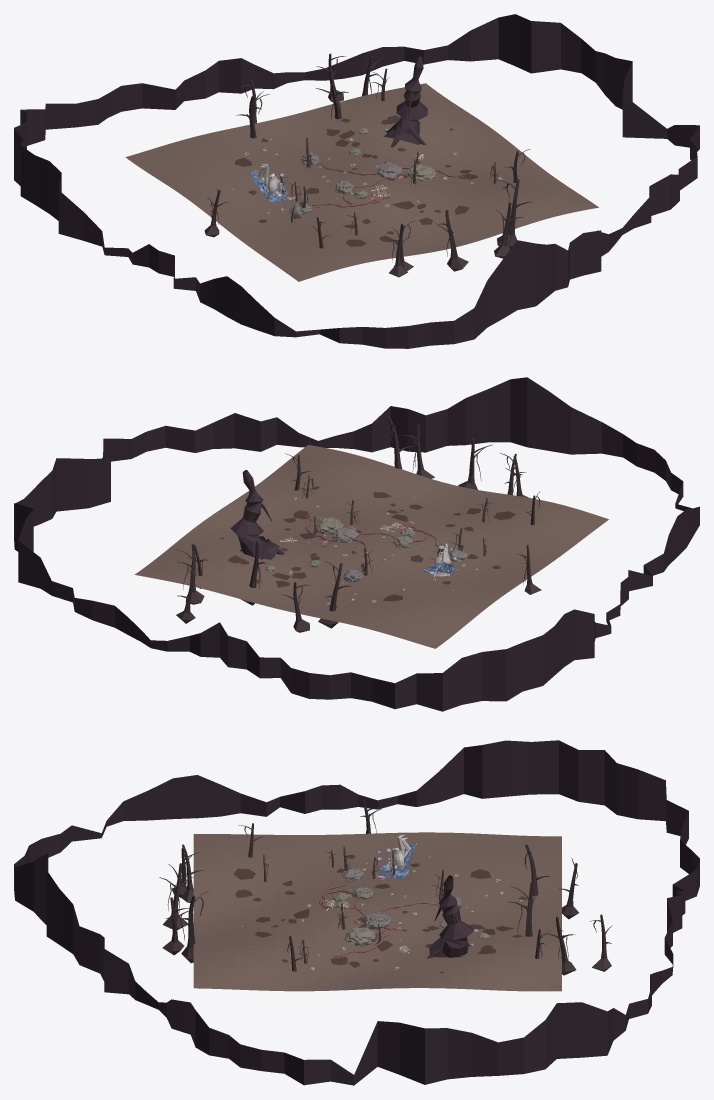
The picture shows the model from 3 angles, top to bottom: view 1: azimuth 30°, elevation 25°; view 2: azimuth 150°, elevation 25°; view 3: azimuth 270°, elevation 25°; orthographic projection. The views are drawn at different scales.
Visible parts, largest first — view 1: seabed, ridge, litter, colossus, farTree13, farTree12; view 2: seabed, ridge, colossus, litter; view 3: seabed, ridge, litter, colossus, farTree12, farTree13.
Boxes of the visible parts, left/top/right/bottom form: seabed: left=125, top=83, right=598, bottom=281; ridge: left=14, top=14, right=699, bottom=348; litter: left=235, top=115, right=507, bottom=246; colossus: left=383, top=56, right=427, bottom=147; farTree13: left=496, top=179, right=532, bottom=248; farTree12: left=435, top=210, right=468, bottom=271; seabed: left=134, top=445, right=608, bottom=648; ridge: left=14, top=377, right=699, bottom=711; colossus: left=230, top=470, right=284, bottom=560; litter: left=220, top=486, right=515, bottom=606; seabed: left=193, top=832, right=561, bottom=991; ridge: left=14, top=740, right=699, bottom=1085; litter: left=233, top=854, right=527, bottom=973; colossus: left=427, top=875, right=473, bottom=958; farTree12: left=159, top=863, right=193, bottom=929; farTree13: left=179, top=890, right=209, bottom=963.
Bounding box in the file's own units: 207 × 35.22 × 205.
